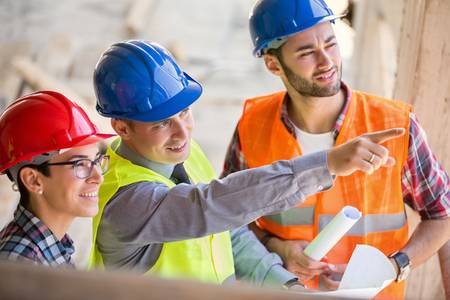casco: (1, 90, 119, 178), (90, 37, 204, 124), (246, 1, 347, 59)
